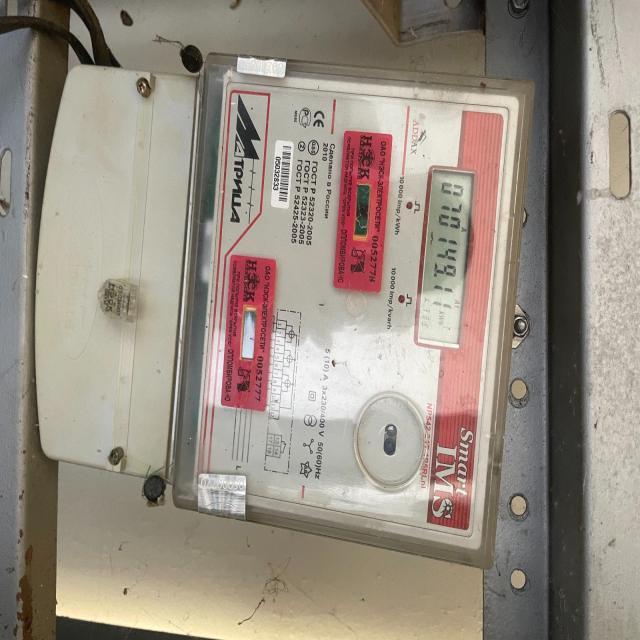Display: (415, 167, 476, 351)
meter_matrica: (137, 46, 533, 571)
seal_imp: (334, 131, 393, 292), (220, 254, 277, 414)
